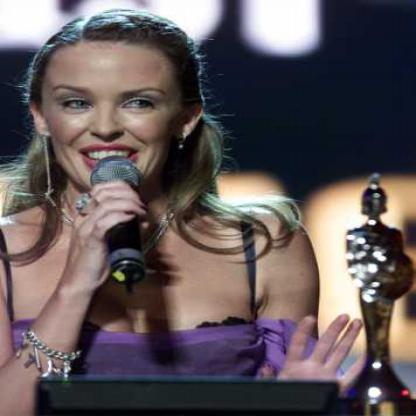face: (46, 16, 185, 195)
